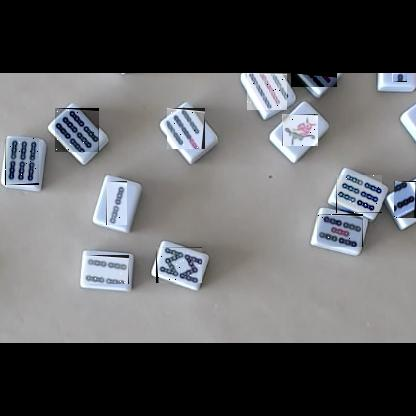1s: (282, 114, 318, 146)
2s: (106, 181, 127, 225), (392, 73, 407, 82)
4s: (84, 255, 129, 284), (394, 181, 416, 218)
5s: (317, 214, 363, 247)
6s: (55, 108, 99, 152), (336, 175, 382, 213), (5, 138, 39, 185)
7s: (167, 108, 205, 149)
8s: (156, 247, 202, 283)
9s: (247, 73, 287, 110), (291, 73, 337, 87)
